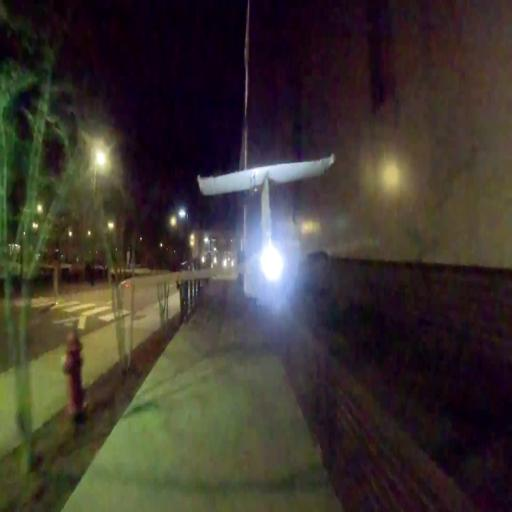uav: (120, 147, 378, 309)
